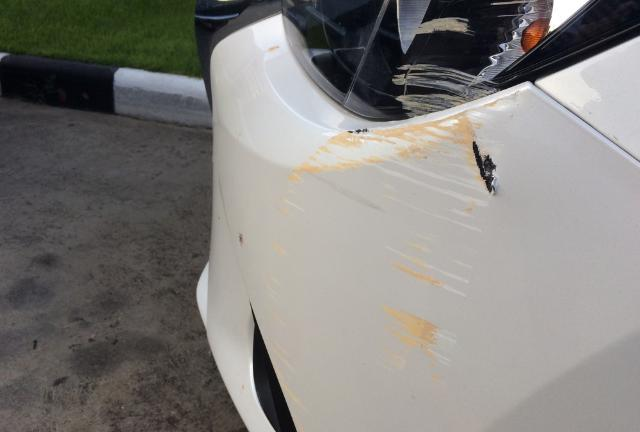scratch: (263, 88, 525, 432)
